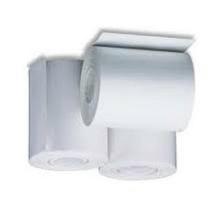tissue: (74, 25, 204, 135), (21, 51, 113, 176), (94, 122, 181, 185)
